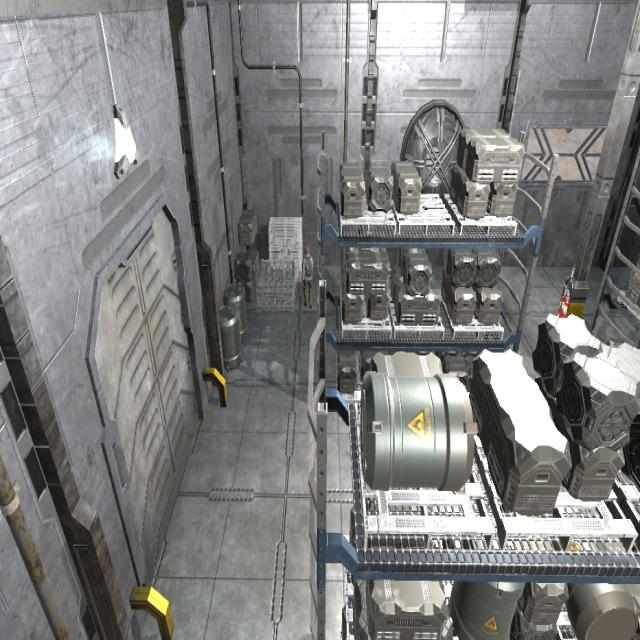thiefs: (300, 242, 315, 313)
